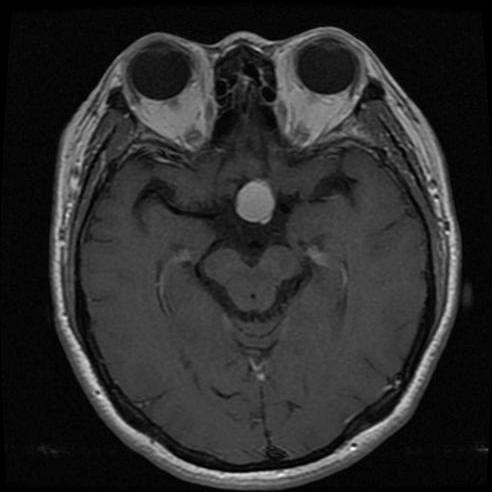Tumour-Pituitary: (230, 179, 282, 225)
